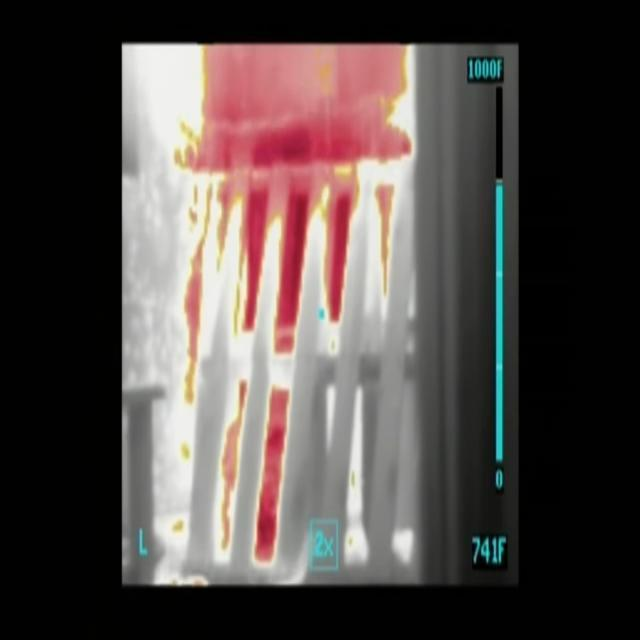fire: (176, 41, 417, 383)
